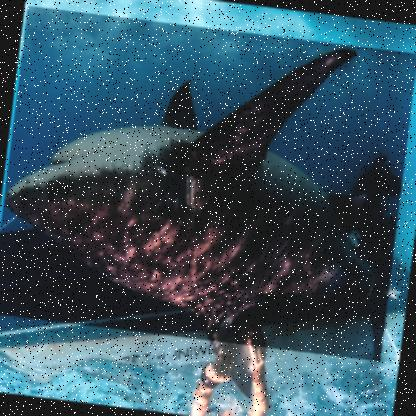bulldog-shark: (0, 3, 415, 361)
